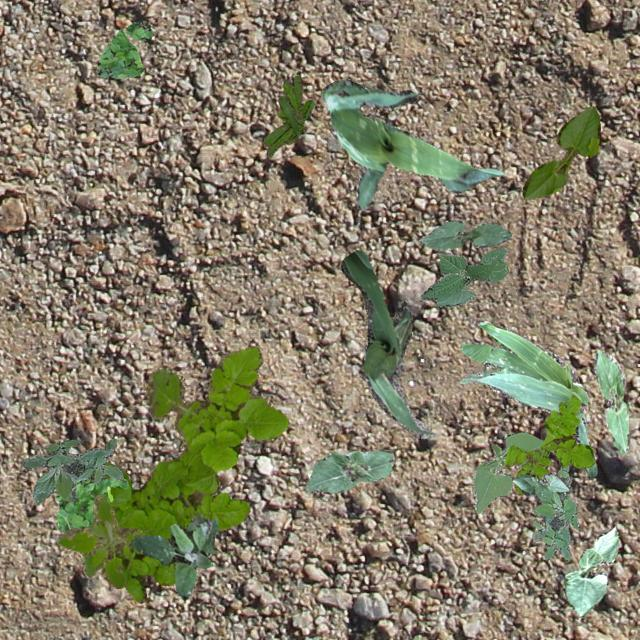crop: (320, 78, 502, 210), (458, 320, 596, 476), (339, 248, 432, 438), (522, 106, 600, 198), (472, 431, 542, 512), (419, 246, 506, 306), (562, 526, 618, 616), (592, 348, 630, 454), (304, 448, 392, 492), (418, 220, 511, 250), (510, 472, 570, 494)
weed: (102, 346, 286, 602), (504, 394, 594, 494), (56, 493, 142, 588), (130, 512, 217, 596), (22, 438, 122, 504), (530, 462, 578, 560), (262, 75, 314, 156), (55, 476, 126, 532), (96, 18, 152, 78)
